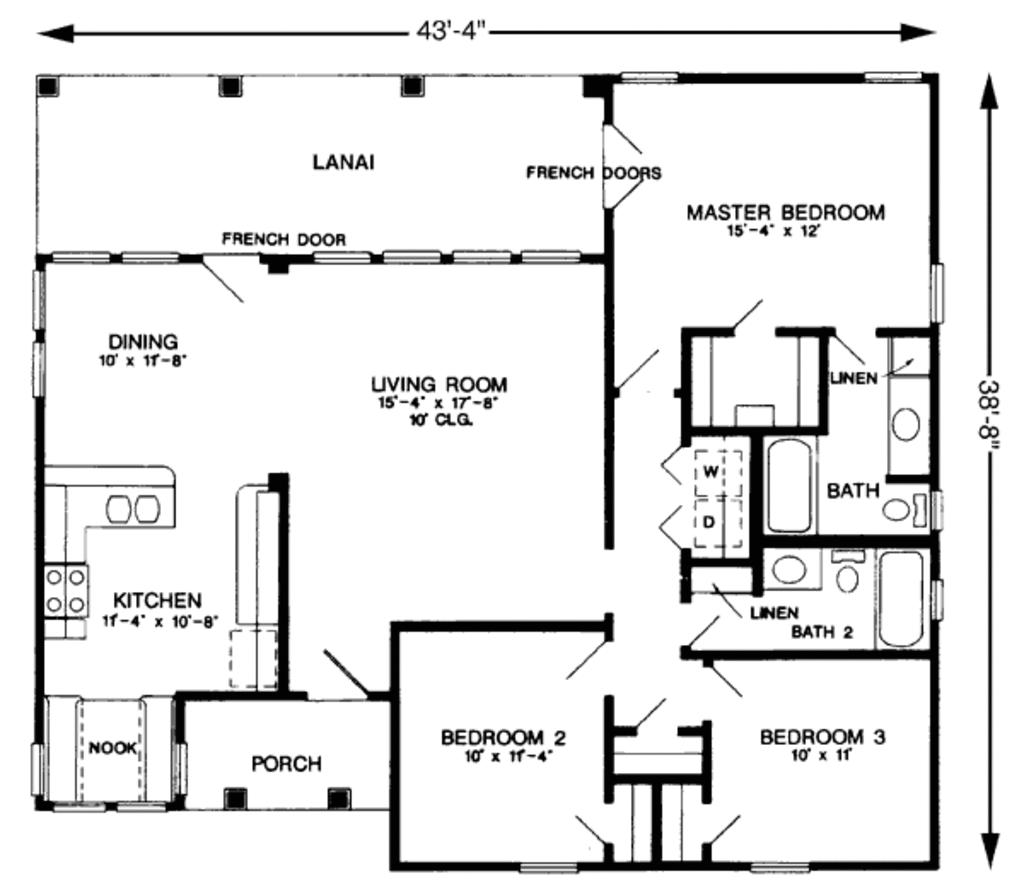kitchen_bar: (45, 464, 190, 645)
large_sink: (878, 490, 928, 531), (832, 549, 872, 596)
small_sink: (890, 387, 930, 480), (761, 544, 826, 592)
tub: (870, 544, 930, 652), (758, 440, 823, 537)
window: (924, 260, 962, 335), (24, 261, 55, 331), (520, 241, 585, 273), (381, 245, 450, 273), (304, 245, 376, 271), (46, 244, 120, 269), (861, 64, 926, 90), (749, 849, 808, 876), (27, 745, 54, 804), (513, 856, 581, 879), (167, 740, 193, 800), (119, 244, 178, 268), (50, 796, 113, 818), (613, 68, 685, 87), (453, 248, 517, 269), (115, 796, 163, 821), (31, 340, 50, 402)
